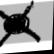not correct: (0, 0, 42, 47)
